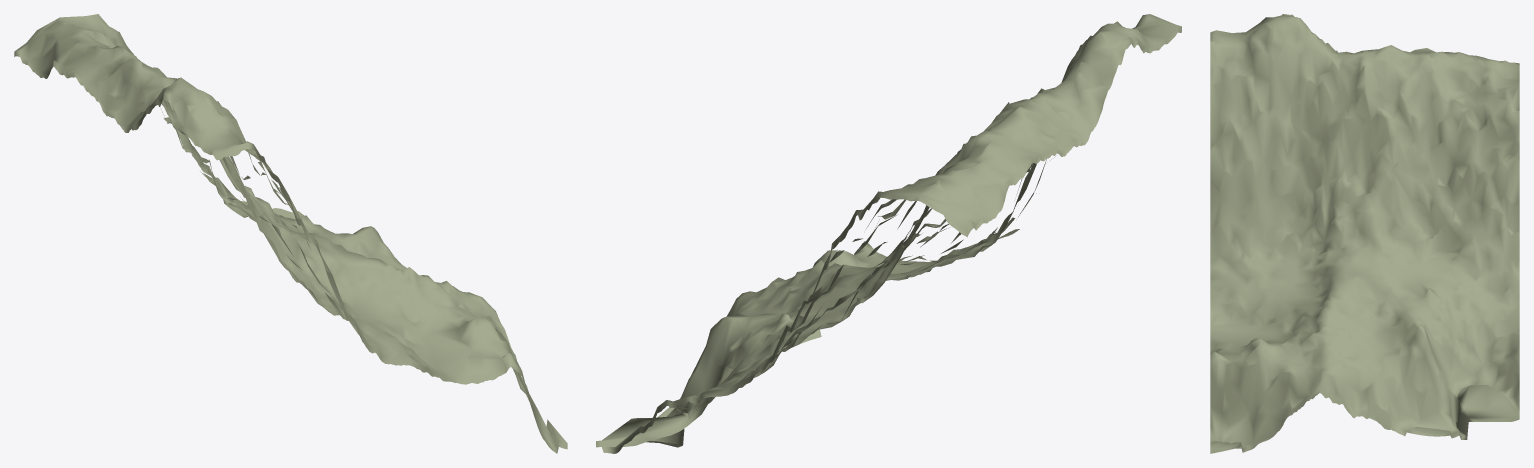
File: terrain_r2_c0_lod1.glb
The picture shows the model from 3 angles, left to right: view 1: azimuth 30°, elevation 25°; view 2: azimuth 150°, elevation 25°; view 3: azimuth 270°, elevation 25°; orthographic projection. The views are drawn at different scales.
Parts seen in each view (by area): view 1: terrain_r2_c0_lod1; view 2: terrain_r2_c0_lod1; view 3: terrain_r2_c0_lod1.
Boxes of the visible parts, x1=… form: terrain_r2_c0_lod1: x1=14, y1=14, x2=567, y2=453; terrain_r2_c0_lod1: x1=596, y1=14, x2=1181, y2=453; terrain_r2_c0_lod1: x1=1210, y1=14, x2=1519, y2=453.
Size of the model in its own units: 50 by 56.21 by 50.
